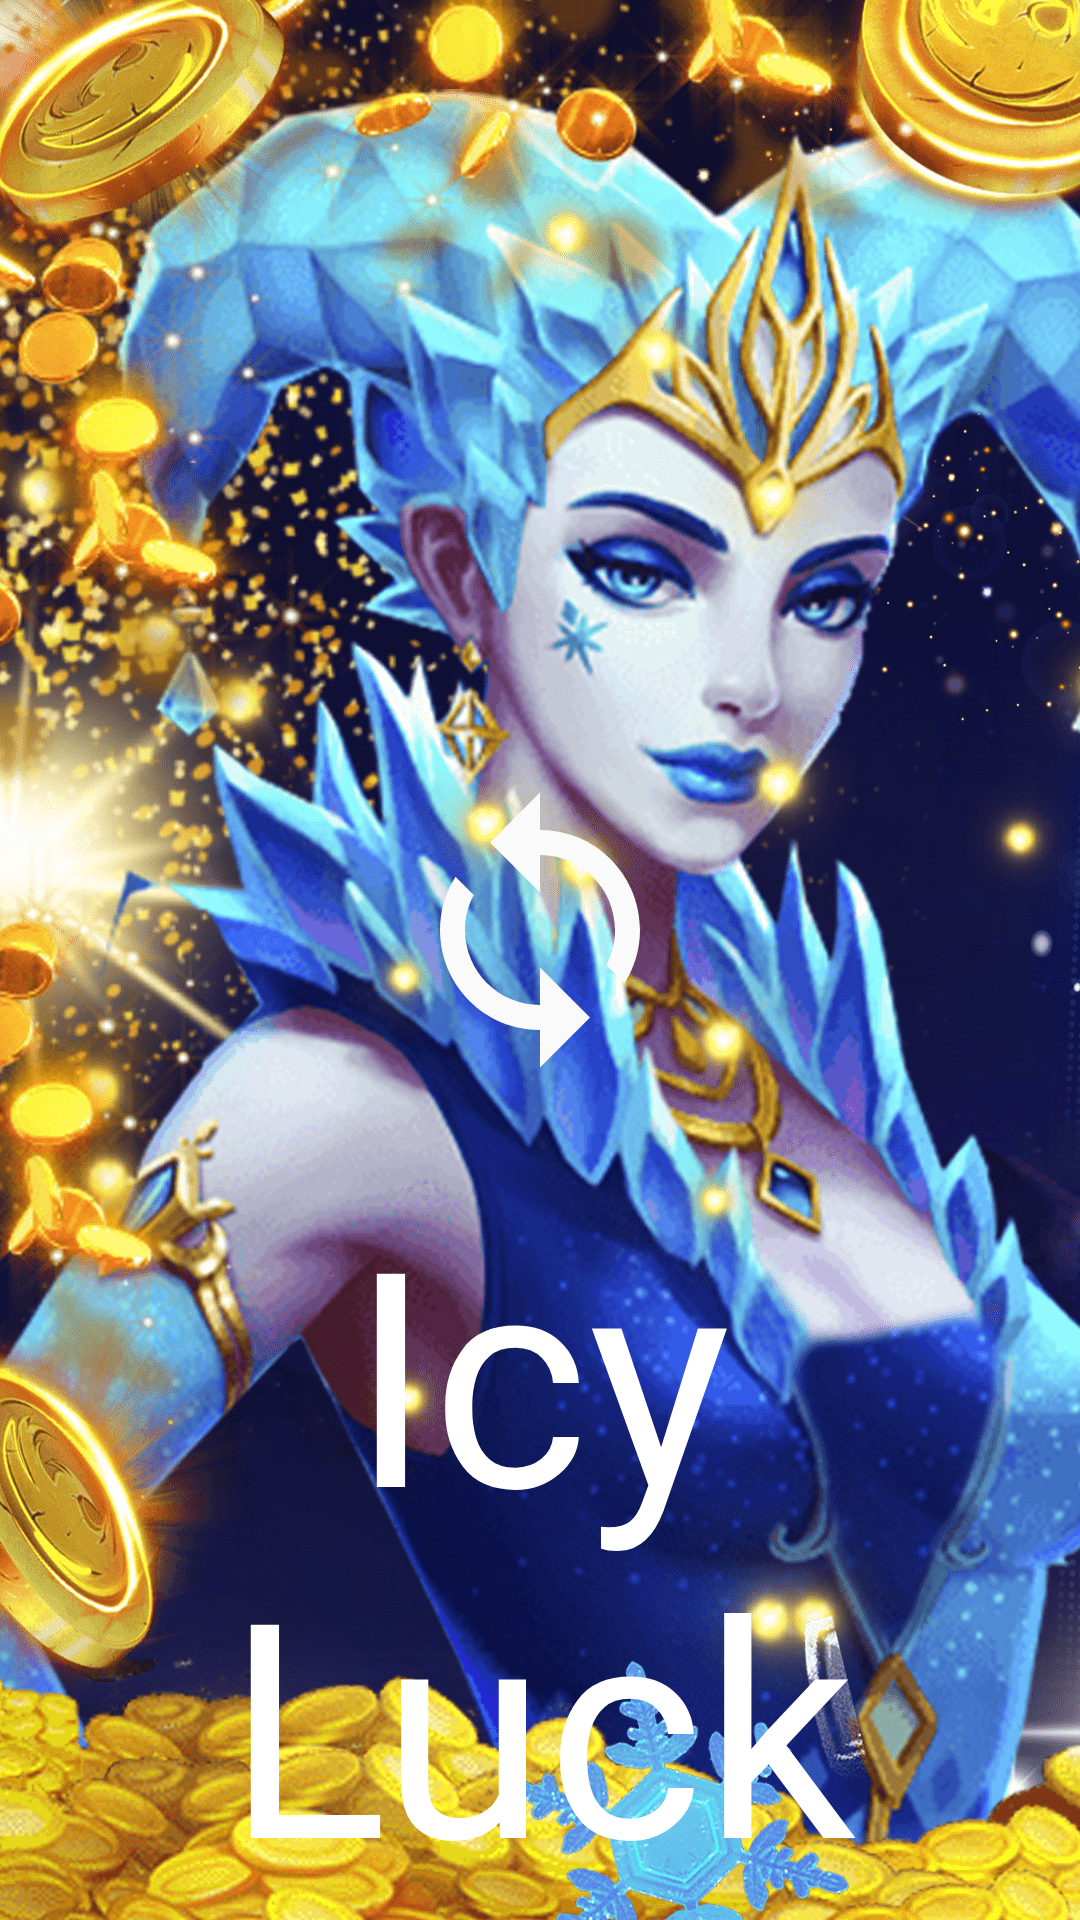

Icon click points for this 1080w x 1920h phone screenshot, format (x,y):
loop: (540,930)
